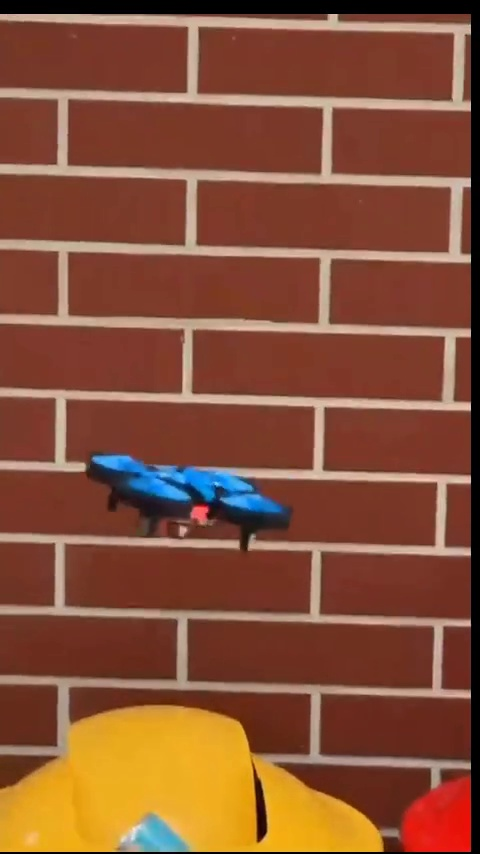drone: (84, 455, 292, 555)
